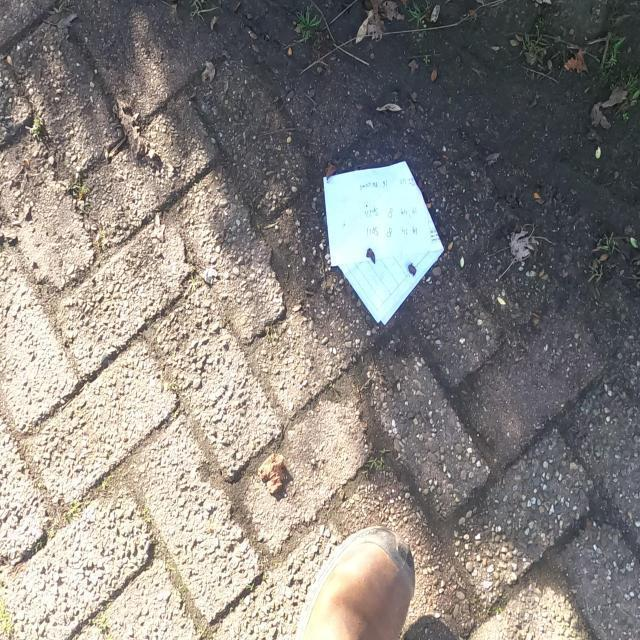Paper: (322, 158, 452, 324)
